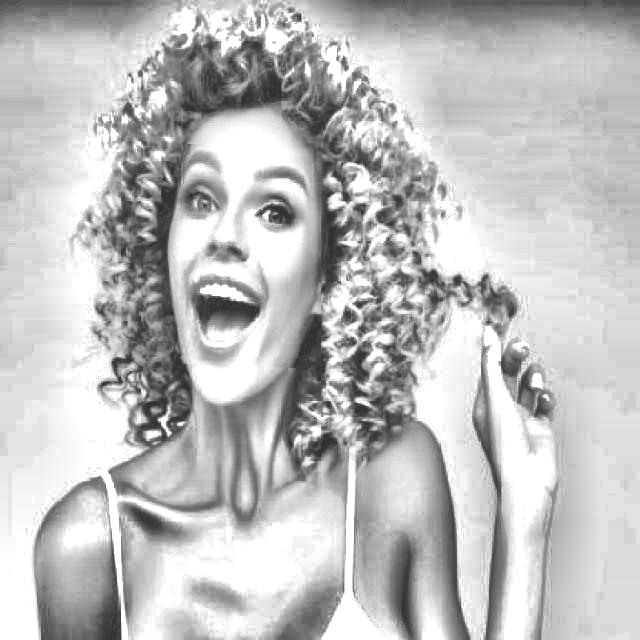happy: (178, 145, 313, 367)
